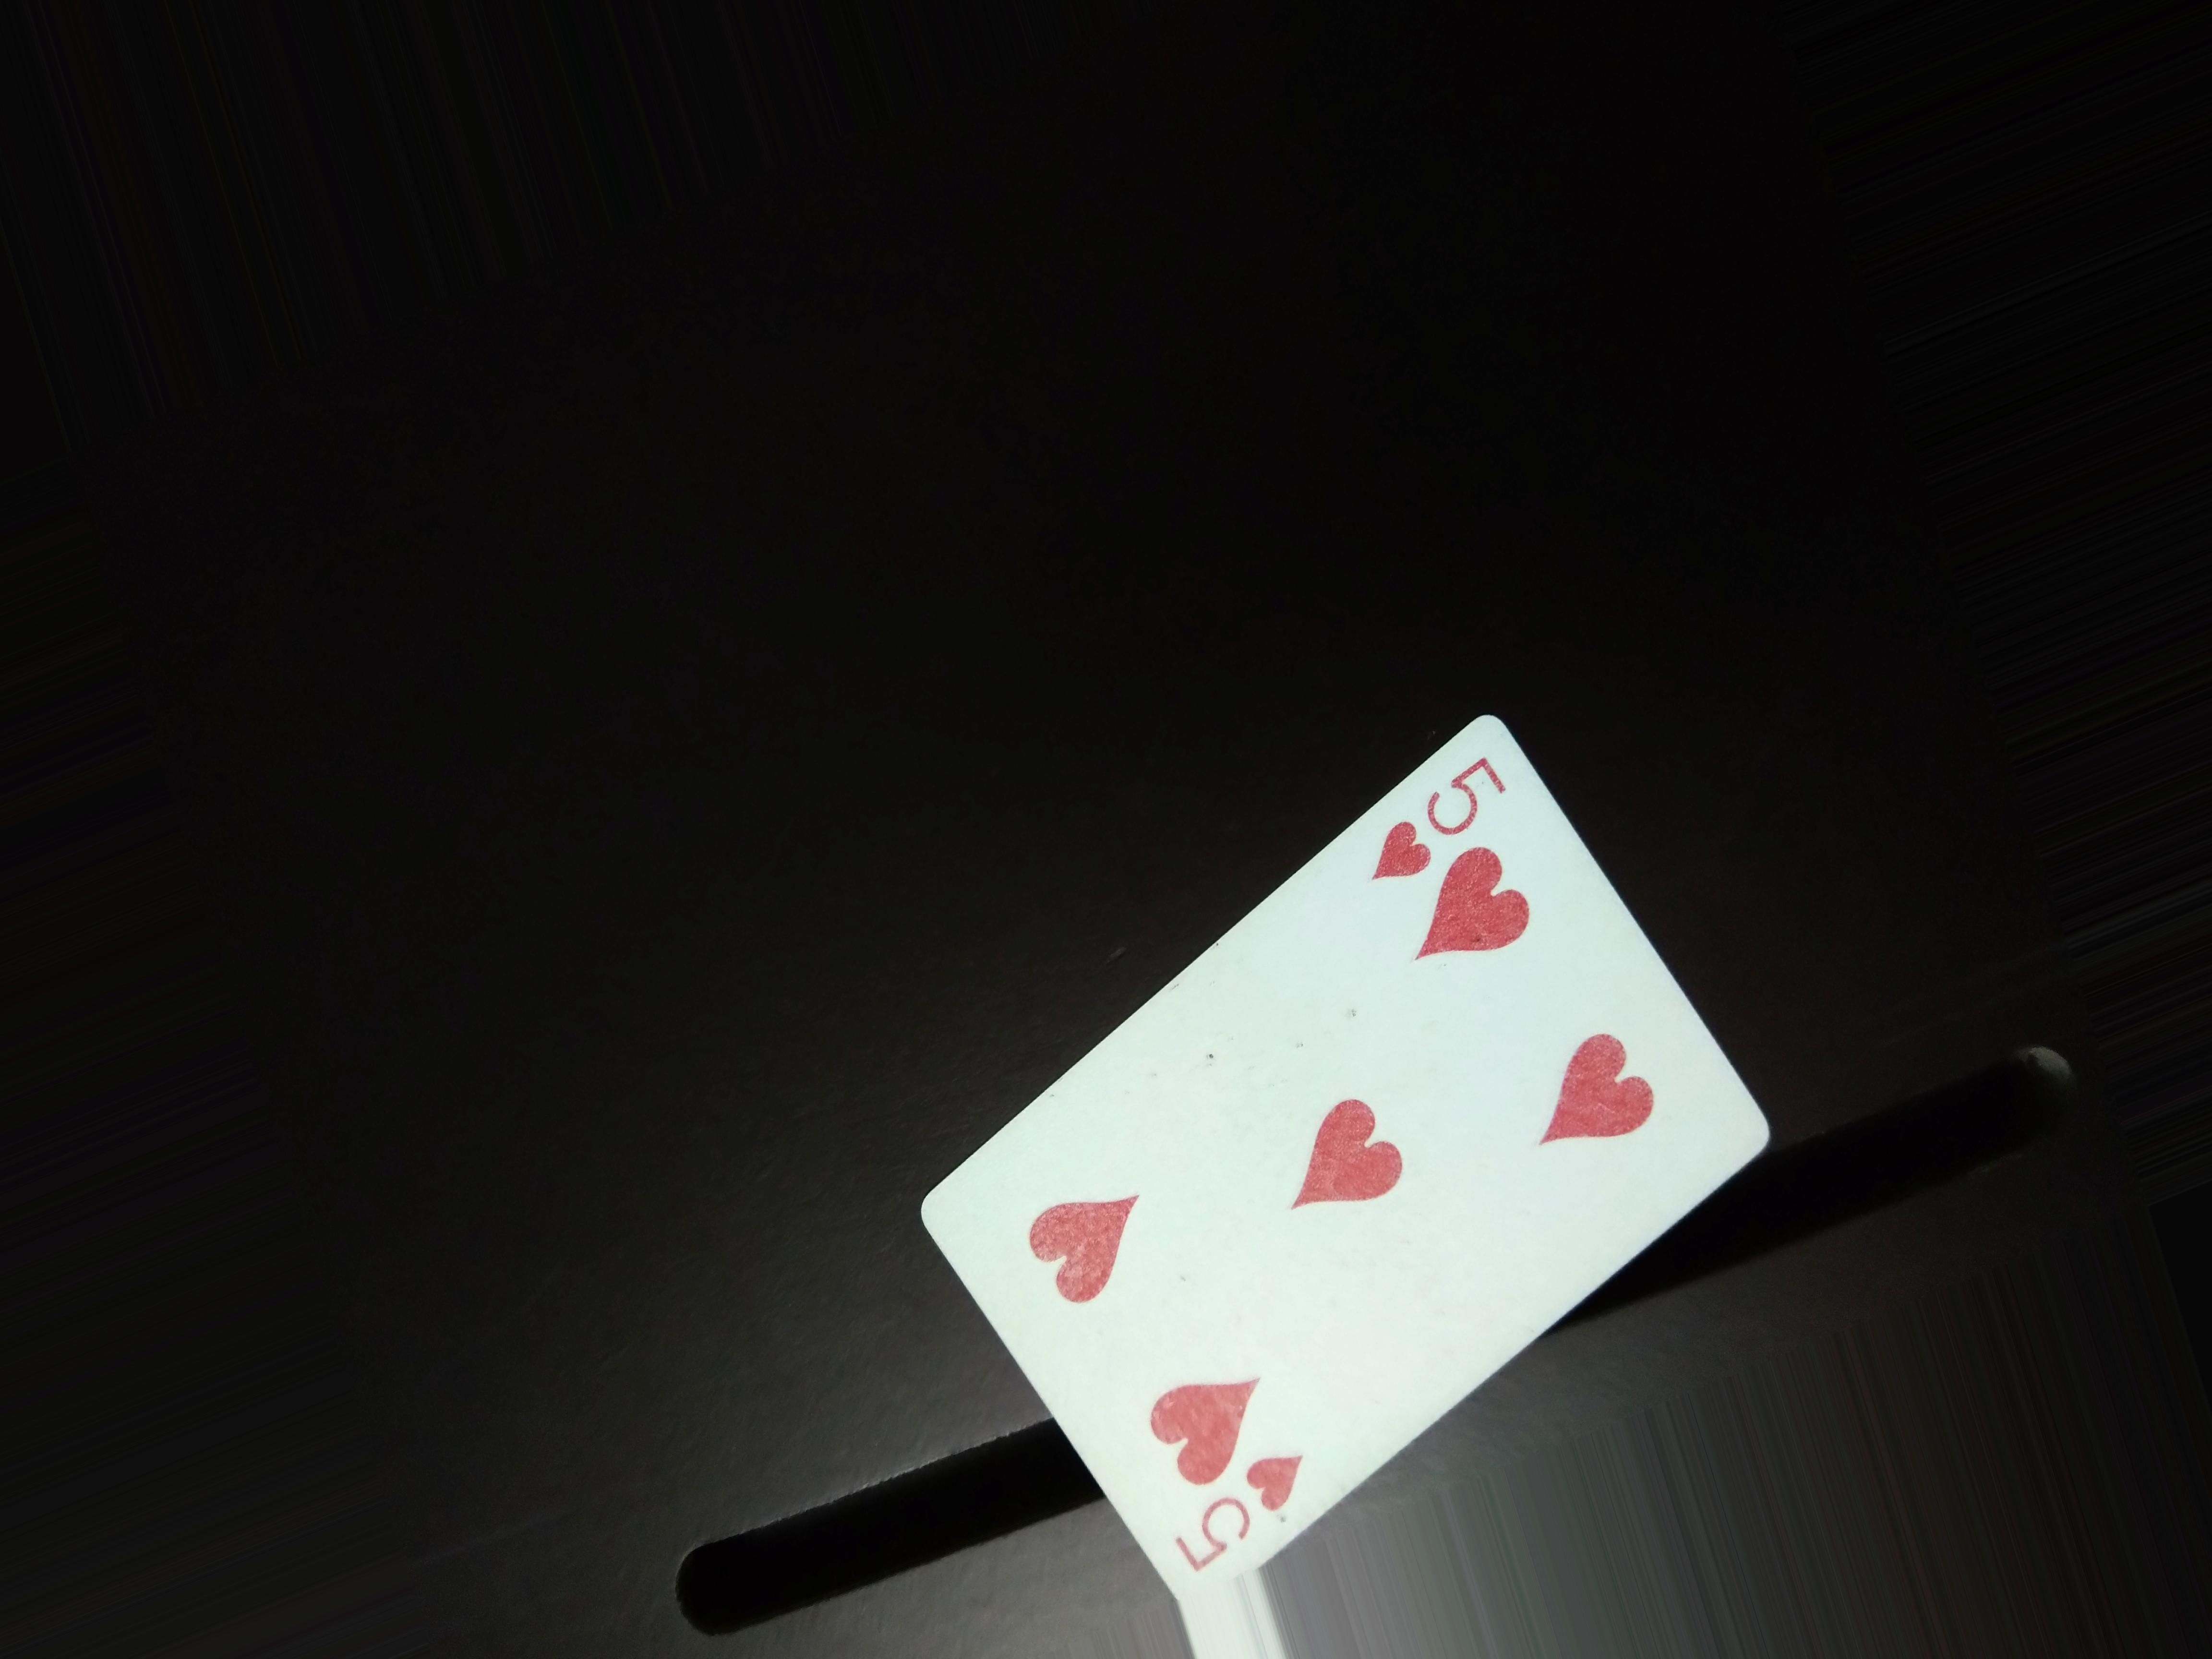5H: (1359, 751, 1508, 903)
